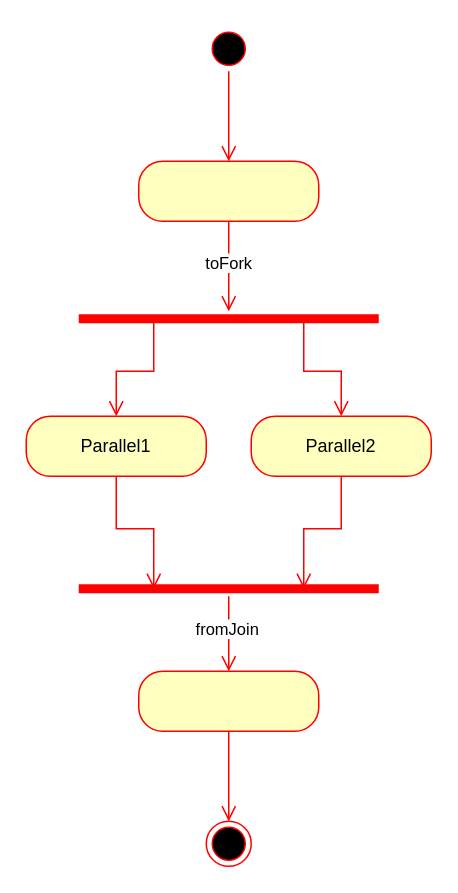
The diagram is 458 pixels wide and 893 high, and some of its shapes have lost their labels. Each missing label, with the centre of its shape:
AfterJoin: (x=228, y=700)
BeforeFork: (x=228, y=190)
